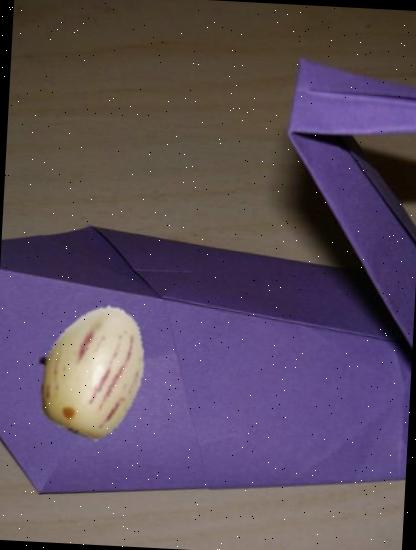Pepino: (19, 299, 162, 444)
